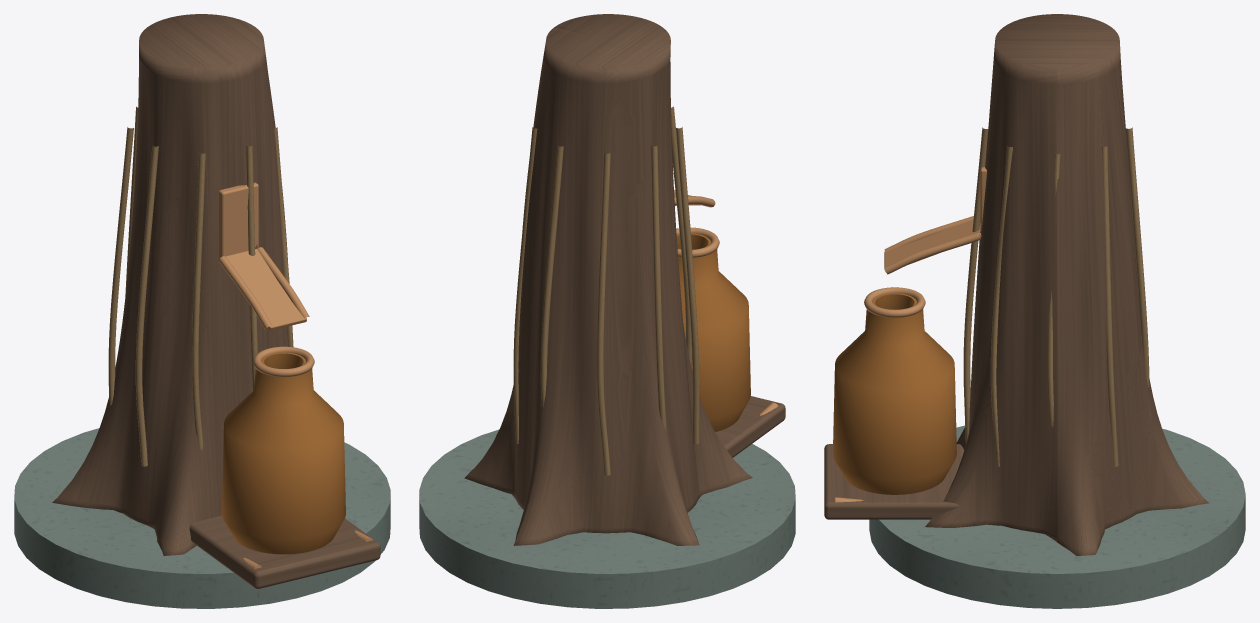
File: bellroot-fen-floodward-marches-root-resin-tapping-stat-deca353a__32912.glb
3 views of the same model, side by side, from view 1: azimuth 30°, elevation 25°; view 2: azimuth 150°, elevation 25°; view 3: azimuth 270°, elevation 25° (orthographic).
Parts seen in each view (by area): view 1: root-resin-tapping-station_1, root-resin-tapping-station_0, root-resin-tapping-station_4, root-resin-tapping-station_2, root-resin-tapping-station_3; view 2: root-resin-tapping-station_1, root-resin-tapping-station_0, root-resin-tapping-station_2, root-resin-tapping-station_4, root-resin-tapping-station_3; view 3: root-resin-tapping-station_1, root-resin-tapping-station_0, root-resin-tapping-station_4, root-resin-tapping-station_2, root-resin-tapping-station_3.
Part boxes in pixels (bbox=[...]): root-resin-tapping-station_1: bbox=[52, 14, 380, 588]; root-resin-tapping-station_0: bbox=[14, 428, 390, 608]; root-resin-tapping-station_4: bbox=[221, 352, 345, 554]; root-resin-tapping-station_2: bbox=[108, 106, 293, 466]; root-resin-tapping-station_3: bbox=[218, 182, 373, 569]; root-resin-tapping-station_1: bbox=[464, 14, 785, 545]; root-resin-tapping-station_0: bbox=[419, 429, 795, 608]; root-resin-tapping-station_2: bbox=[513, 106, 699, 475]; root-resin-tapping-station_4: bbox=[676, 233, 750, 431]; root-resin-tapping-station_3: bbox=[674, 190, 778, 415]; root-resin-tapping-station_1: bbox=[824, 14, 1209, 555]; root-resin-tapping-station_0: bbox=[869, 425, 1245, 608]; root-resin-tapping-station_4: bbox=[833, 293, 956, 494]; root-resin-tapping-station_2: bbox=[963, 127, 1149, 466]; root-resin-tapping-station_3: bbox=[835, 167, 986, 502].
Bounding box in the file's own units: 0.88 × 1.26 × 0.985.
5 materials, 3 textured.
